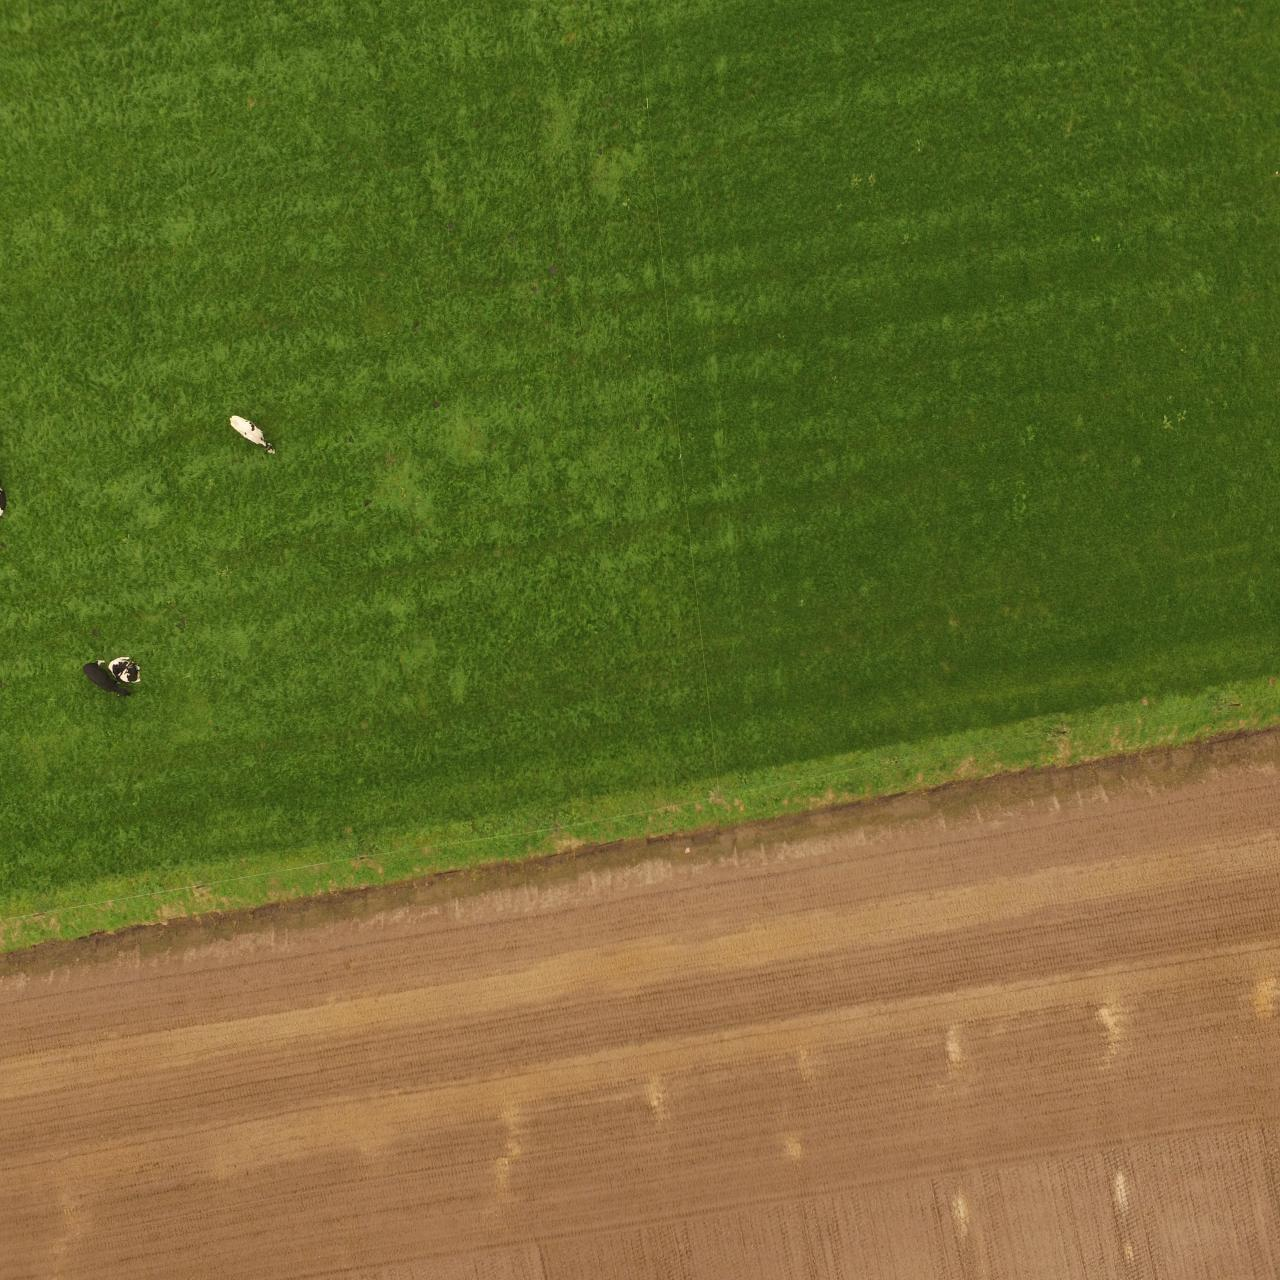cow: (229, 410, 278, 457), (83, 661, 128, 699), (113, 651, 142, 685)
